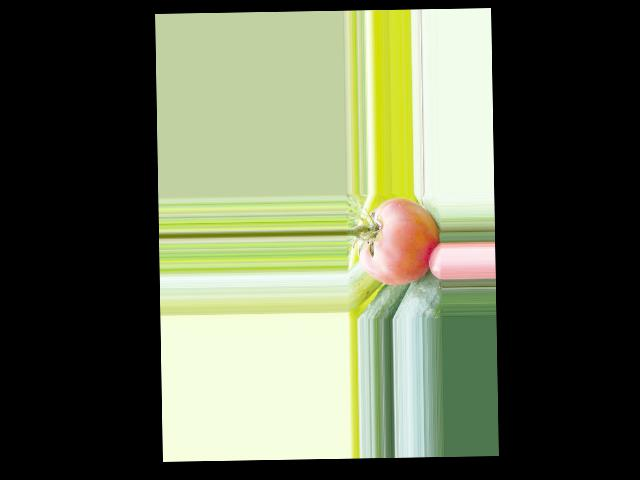tomato: (358, 197, 440, 285)
